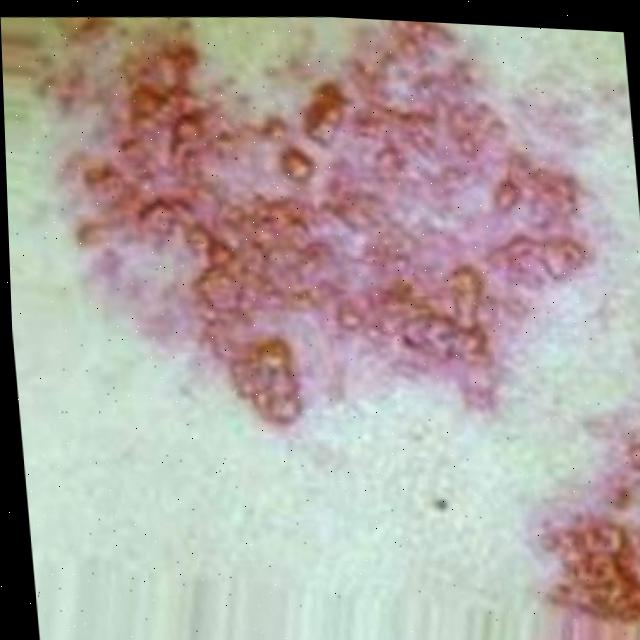Shingles: (54, 3, 605, 450), (510, 423, 640, 628)
